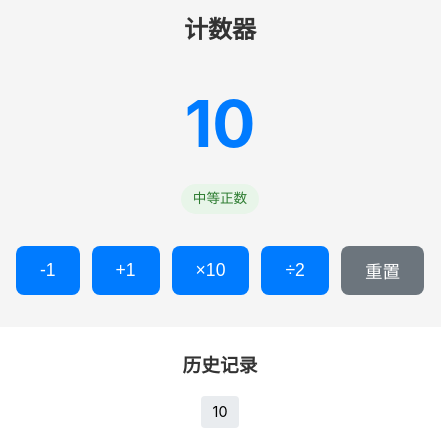
Test: Counter › should divide by 2 when ÷2 button is clicked
This screenshot has width=441, height=445.
Click the button "÷2" at (295,270), box [262,246,329,294]
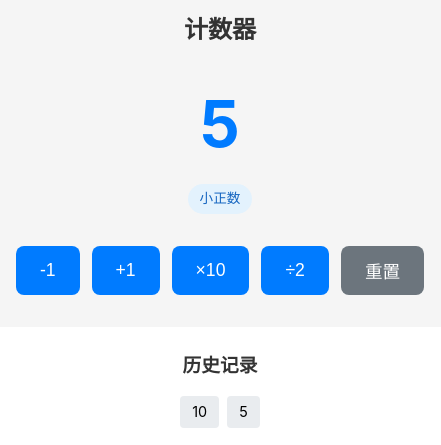
Result: the text "小正数" is shown at [188,184,252,214]
